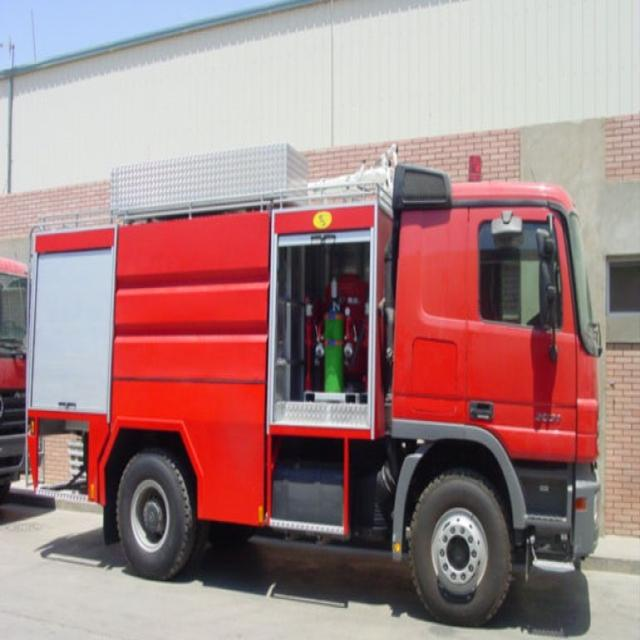Fire-truck: (24, 145, 603, 627)
